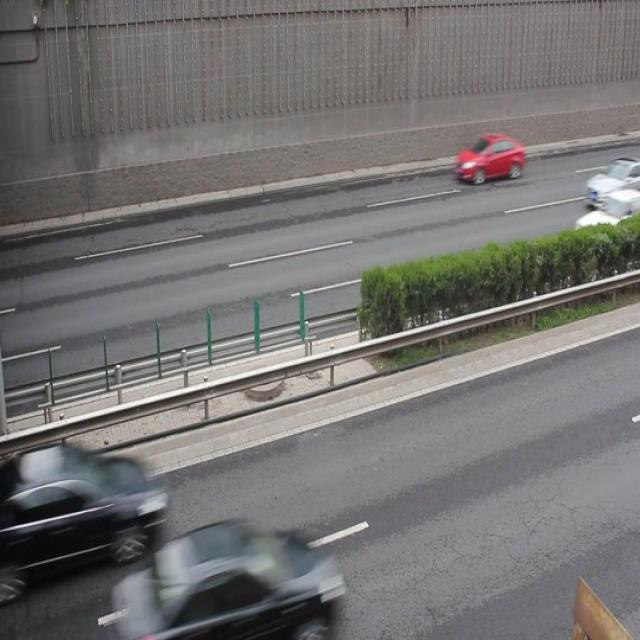car: (114, 524, 341, 640), (1, 441, 162, 598), (454, 132, 526, 186), (574, 191, 640, 237), (584, 158, 640, 208)
